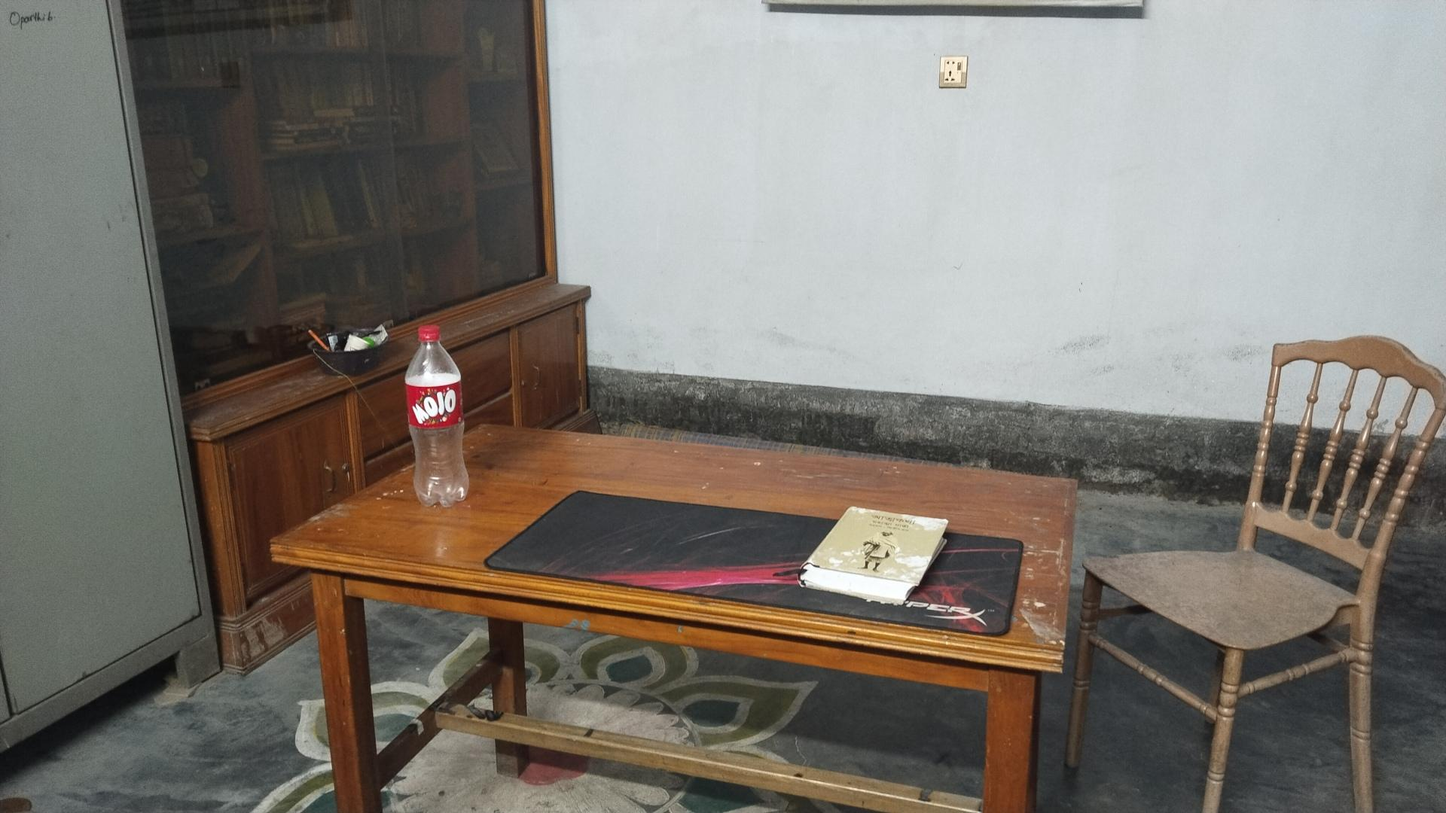Book: (800, 503, 950, 601)
Bottle: (402, 320, 472, 503)
Chair: (1079, 327, 1446, 813)
Table: (264, 432, 1078, 813)
